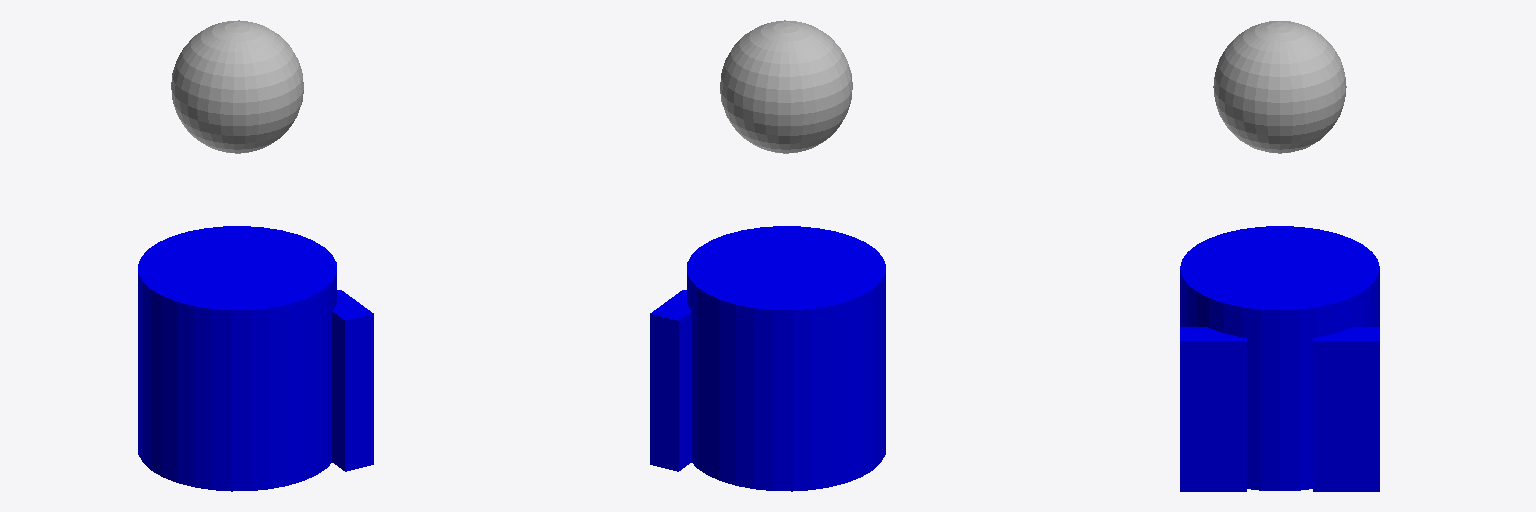
URDF robot description (r2d2):
<?xml version="1.0"?>
<robot name="r2d2">
  <!-- R2D2 Body -->
  <link name="base_link">
    <visual>
      <geometry>
        <cylinder radius="0.3" length="0.6"/>
      </geometry>
      <material name="blue">
        <color rgba="0 0 1 1"/>
      </material>
      <origin xyz="0 0 0.3"/>
    </visual>
    <collision>
      <geometry>
        <cylinder radius="0.3" length="0.6"/>
      </geometry>
      <origin xyz="0 0 0.3"/>
    </collision>
    <inertial>
      <mass value="5.0"/>
      <origin xyz="0 0 0.3"/>
      <inertia ixx="0.1" iyy="0.1" izz="0.1" ixy="0.0" ixz="0.0" iyz="0.0"/>
    </inertial>
  </link>

  <!-- R2D2 Head -->
  <link name="head">
    <visual>
      <geometry>
        <sphere radius="0.2"/>
      </geometry>
      <material name="silver">
        <color rgba="0.75 0.75 0.75 1"/>
      </material>
      <origin xyz="0 0 0.7"/>
    </visual>
    <collision>
      <geometry>
        <sphere radius="0.2"/>
      </geometry>
      <origin xyz="0 0 0.7"/>
    </collision>
    <inertial>
      <mass value="1.0"/>
      <origin xyz="0 0 0.7"/>
      <inertia ixx="0.05" iyy="0.05" izz="0.05" ixy="0.0" ixz="0.0" iyz="0.0"/>
    </inertial>
  </link>

  <!-- Head Joint -->
  <joint name="head_joint" type="fixed">
    <parent link="base_link"/>
    <child link="head"/>
    <origin xyz="0 0 0.5" rpy="0 0 0"/>
  </joint>

  <!-- Left Leg -->
  <link name="left_leg">
    <visual>
      <geometry>
        <box size="0.1 0.2 0.5"/>
      </geometry>
      <material name="blue">
        <color rgba="0 0 1 1"/>
      </material>
      <origin xyz="0 0 0.25"/>
    </visual>
    <collision>
      <geometry>
        <box size="0.1 0.2 0.5"/>
      </geometry>
      <origin xyz="0 0 0.25"/>
    </collision>
    <inertial>
      <mass value="1.0"/>
      <origin xyz="0 0 0.25"/>
      <inertia ixx="0.05" iyy="0.05" izz="0.05" ixy="0.0" ixz="0.0" iyz="0.0"/>
    </inertial>
  </link>

  <joint name="left_leg_joint" type="fixed">
    <parent link="base_link"/>
    <child link="left_leg"/>
    <origin xyz="0.25 0.2 0" rpy="0 0 0"/>
  </joint>

  <!-- Right Leg -->
  <link name="right_leg">
    <visual>
      <geometry>
        <box size="0.1 0.2 0.5"/>
      </geometry>
      <material name="blue">
        <color rgba="0 0 1 1"/>
      </material>
      <origin xyz="0 0 0.25"/>
    </visual>
    <collision>
      <geometry>
        <box size="0.1 0.2 0.5"/>
      </geometry>
      <origin xyz="0 0 0.25"/>
    </collision>
    <inertial>
      <mass value="1.0"/>
      <origin xyz="0 0 0.25"/>
      <inertia ixx="0.05" iyy="0.05" izz="0.05" ixy="0.0" ixz="0.0" iyz="0.0"/>
    </inertial>
  </link>

  <joint name="right_leg_joint" type="fixed">
    <parent link="base_link"/>
    <child link="right_leg"/>
    <origin xyz="0.25 -0.2 0" rpy="0 0 0"/>
  </joint>

</robot>

--- Facts derived from the render (not from the file) ---
3 views of the same robot in one strip: view 1: azimuth 30°, elevation 25°; view 2: azimuth 150°, elevation 25°; view 3: azimuth 270°, elevation 25° (orthographic).
Robot: r2d2 — 4 links, 3 joints (3 fixed); root link base_link; default pose: every joint at zero.
Visible links, largest first — view 1: base_link, head, right_leg; view 2: base_link, head, left_leg; view 3: base_link, head, left_leg, right_leg.
Link boxes in pixels (x1,y1,x2,y2): base_link: (138,226,336,491); head: (171,20,303,153); right_leg: (332,290,373,471); base_link: (687,226,885,491); head: (720,20,852,153); left_leg: (650,290,691,471); base_link: (1180,226,1379,490); head: (1213,21,1346,153); left_leg: (1313,327,1379,491); right_leg: (1180,327,1246,491).
Size in the robot's own frame: 0.6 by 0.6 by 1.4 metres.
Geometry: primitives only (box / cylinder / sphere), no mesh files.